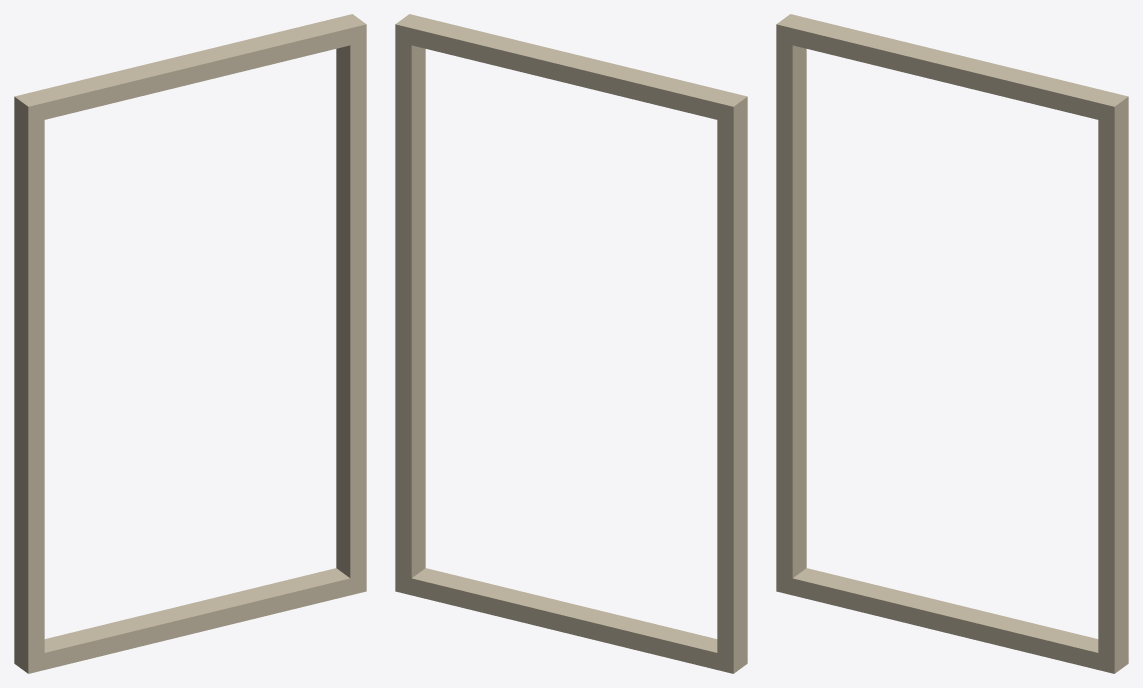
File: waterfront-window-recess.lod2.glb
3 renders of one model, left to right at view 1: azimuth 30°, elevation 25°; view 2: azimuth 150°, elevation 25°; view 3: azimuth 330°, elevation 25°, orthographic.
Visible parts, largest first — view 1: waterfront-window-recess; view 2: waterfront-window-recess; view 3: waterfront-window-recess.
Boxes of the visible parts, x1,y1,x2,y2 form: waterfront-window-recess: (14,14,366,673); waterfront-window-recess: (395,14,747,673); waterfront-window-recess: (776,14,1128,673).
Bounding box in the file's own units: 3.32 × 5.32 × 0.24.
